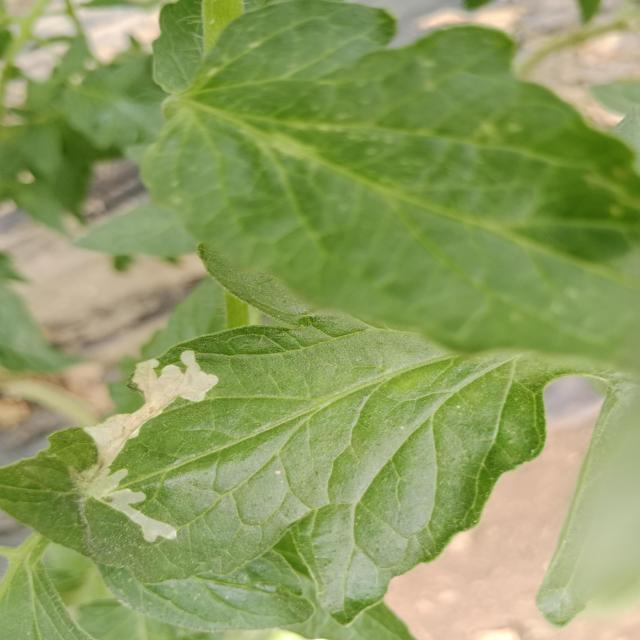Tuta absoluta: (55, 325, 237, 550)
